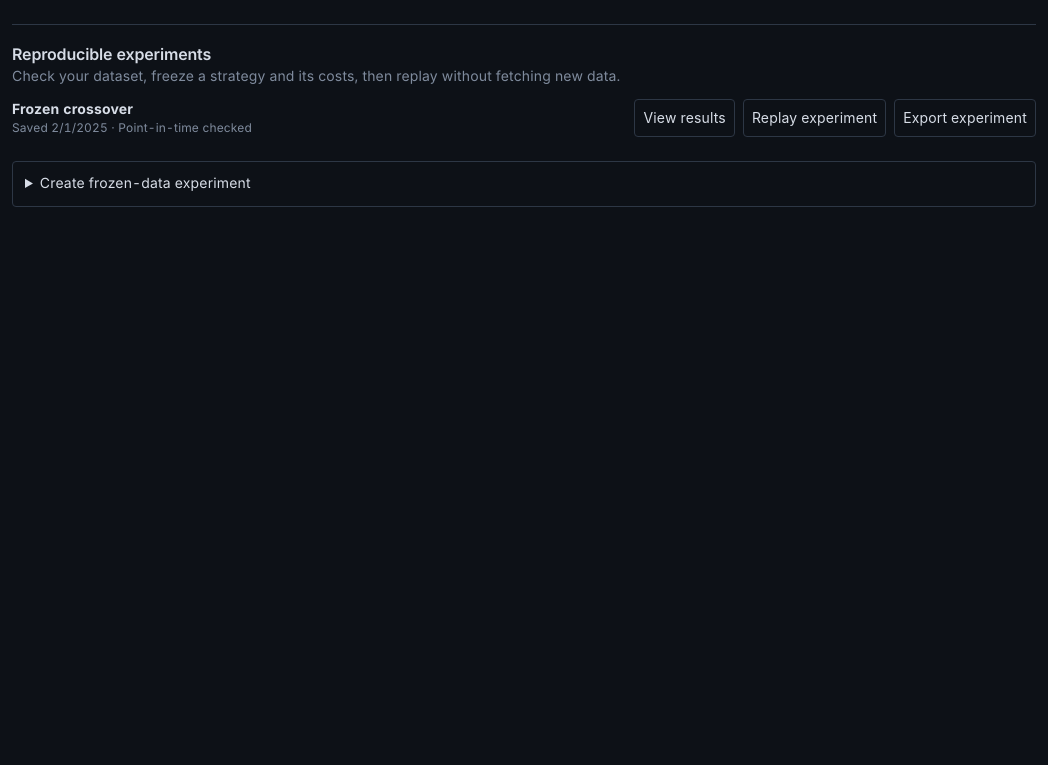
it: saved experiment comparison › offers retry after a snapshot request fails
Click the button "View results". click: (685,118)
box: [634, 99, 735, 137]
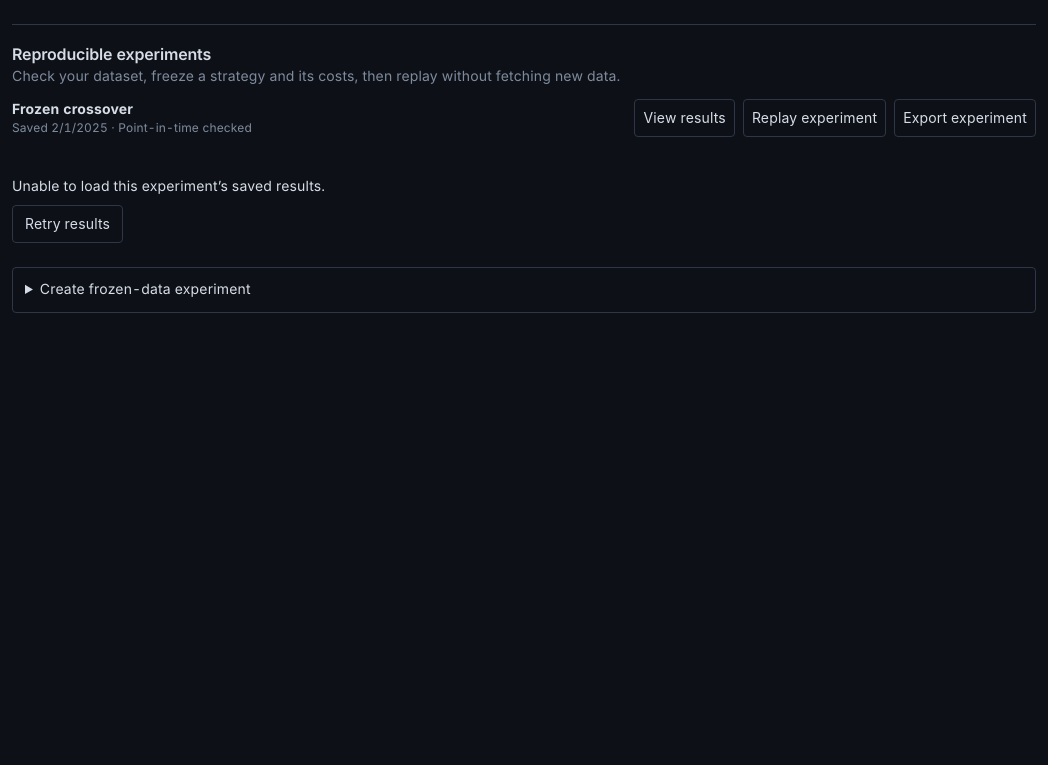
Now the message shows "Unable to load", box [12, 178, 325, 195]
Click the button "Retry results". click: (68,224)
box: [12, 205, 123, 243]
(page scrolled)
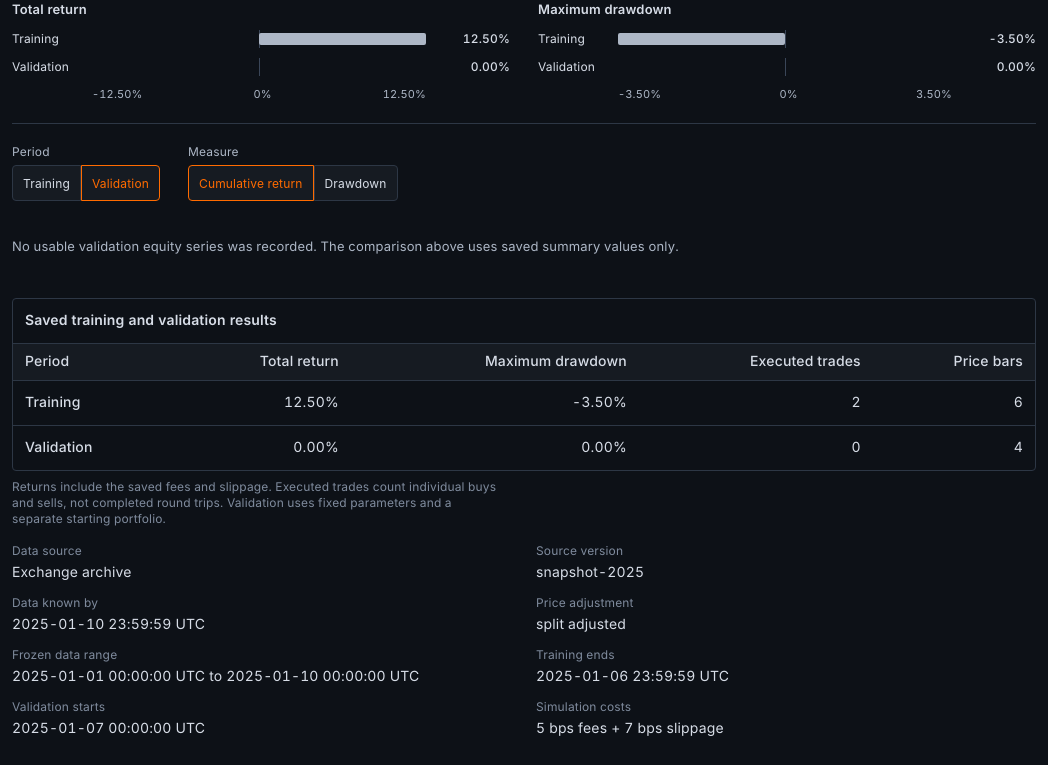
Now the table is shown, box [13, 299, 1035, 470]
